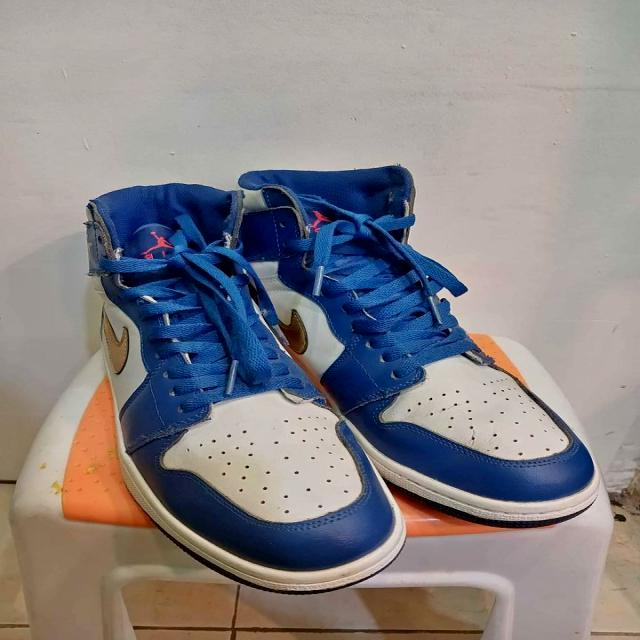nike_fake_jordan: (146, 162, 604, 536), (80, 185, 409, 597)
